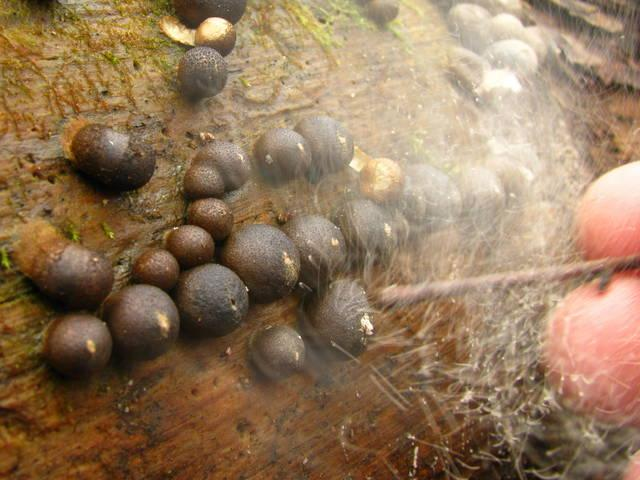poisonous_mushroom: (13, 109, 463, 381), (10, 216, 114, 308), (220, 222, 301, 301), (66, 120, 156, 190), (102, 282, 180, 359), (307, 276, 375, 359), (175, 261, 249, 335), (40, 311, 113, 376), (293, 112, 354, 176), (251, 126, 311, 184), (158, 13, 236, 55), (248, 323, 306, 379), (175, 45, 228, 100), (170, 0, 247, 26)
